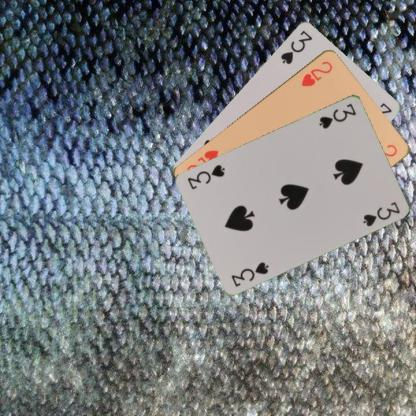2h: (299, 58, 334, 88)
3s: (278, 27, 314, 65), (316, 101, 358, 130), (229, 259, 270, 288)
